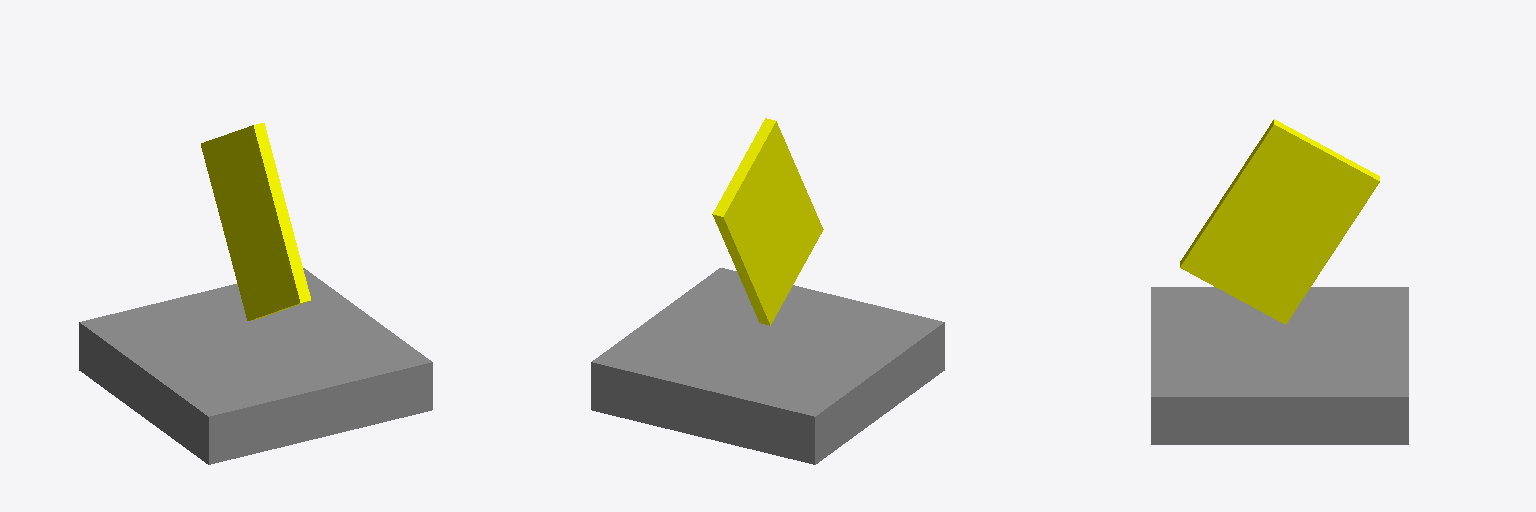
The picture shows the model from 3 angles: view 1: azimuth 30°, elevation 25°; view 2: azimuth 150°, elevation 25°; view 3: azimuth 270°, elevation 25°; orthographic projection.
Visible parts, largest first — view 1: pCube2, pCube1; view 2: pCube2, pCube1; view 3: pCube2, pCube1.
Boxes of the visible parts, <box> form: pCube2: <box>79,268,432,464</box>; pCube1: <box>201,123,310,320</box>; pCube2: <box>591,268,944,464</box>; pCube1: <box>712,118,823,325</box>; pCube2: <box>1151,287,1408,444</box>; pCube1: <box>1180,119,1379,324</box>.
Size of the model in its own units: 4.11 by 4.71 by 4.11.
2 materials, 1 textured.